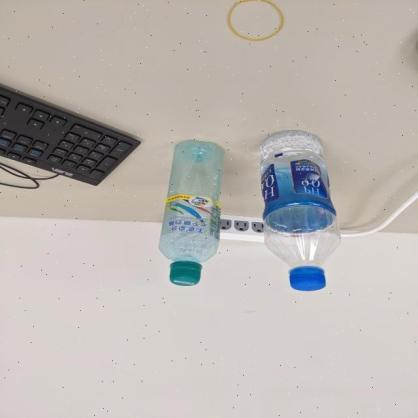bottle: (256, 127, 343, 295), (150, 141, 227, 289)
cap: (166, 259, 206, 286), (289, 265, 327, 291)
label: (263, 150, 333, 219), (159, 196, 227, 237)
